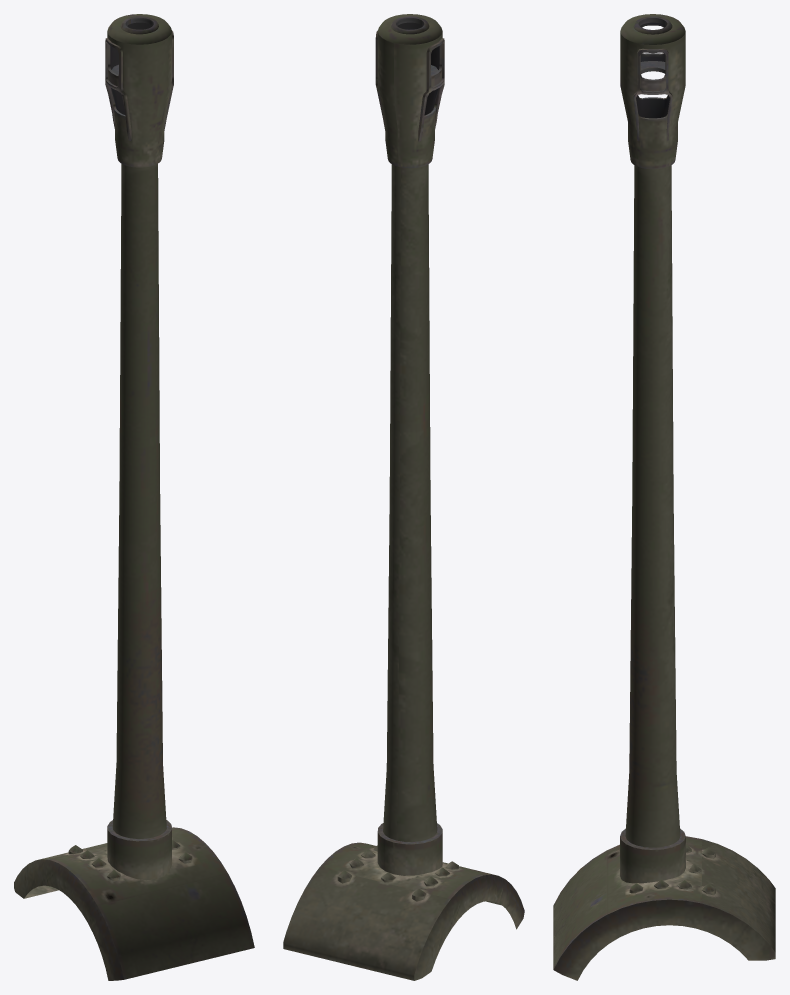
Rendered from Gun_09.glb.
3 renders of one model, left to right at view 1: azimuth 30°, elevation 25°; view 2: azimuth 150°, elevation 25°; view 3: azimuth 270°, elevation 25°, orthographic.
Parts seen in each view (by area): view 1: set_0_group_0; view 2: set_0_group_0; view 3: set_0_group_0.
Part boxes in pixels (left/top/right/bottom): set_0_group_0: left=14, top=14, right=254, bottom=980; set_0_group_0: left=283, top=14, right=524, bottom=980; set_0_group_0: left=553, top=14, right=775, bottom=980.
Size of the model in its own units: 0.6845 by 4.33 by 0.9444.
Materials: 1 (1 with a texture image).
